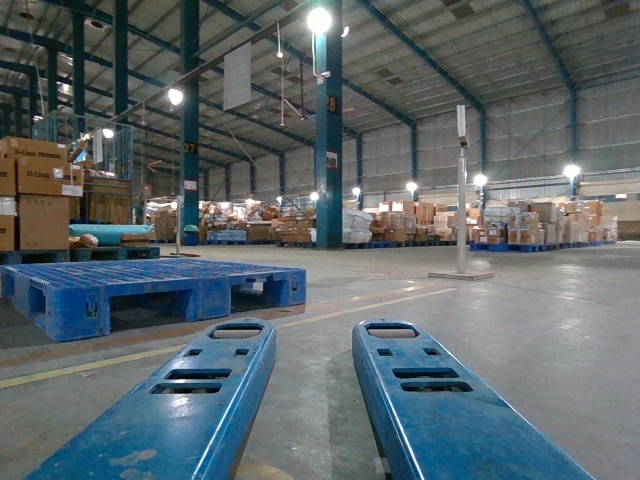block: (57, 282, 113, 344), (195, 274, 236, 319), (285, 268, 306, 310)
front: (62, 269, 306, 340)
hole pallet: (106, 284, 196, 337), (229, 273, 290, 313)
